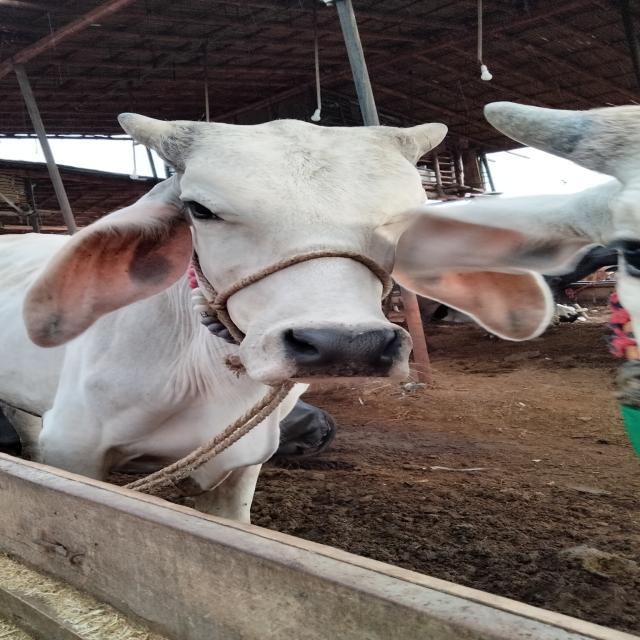muzzles: (266, 320, 414, 382)
